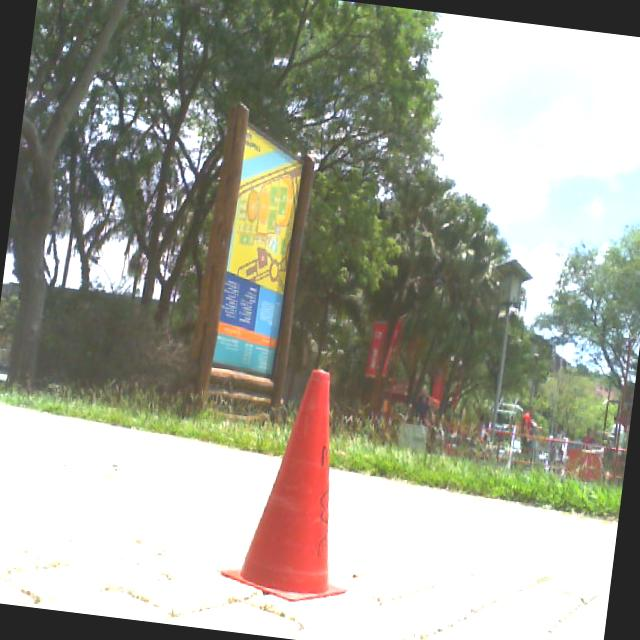cone: (217, 359, 374, 609)
